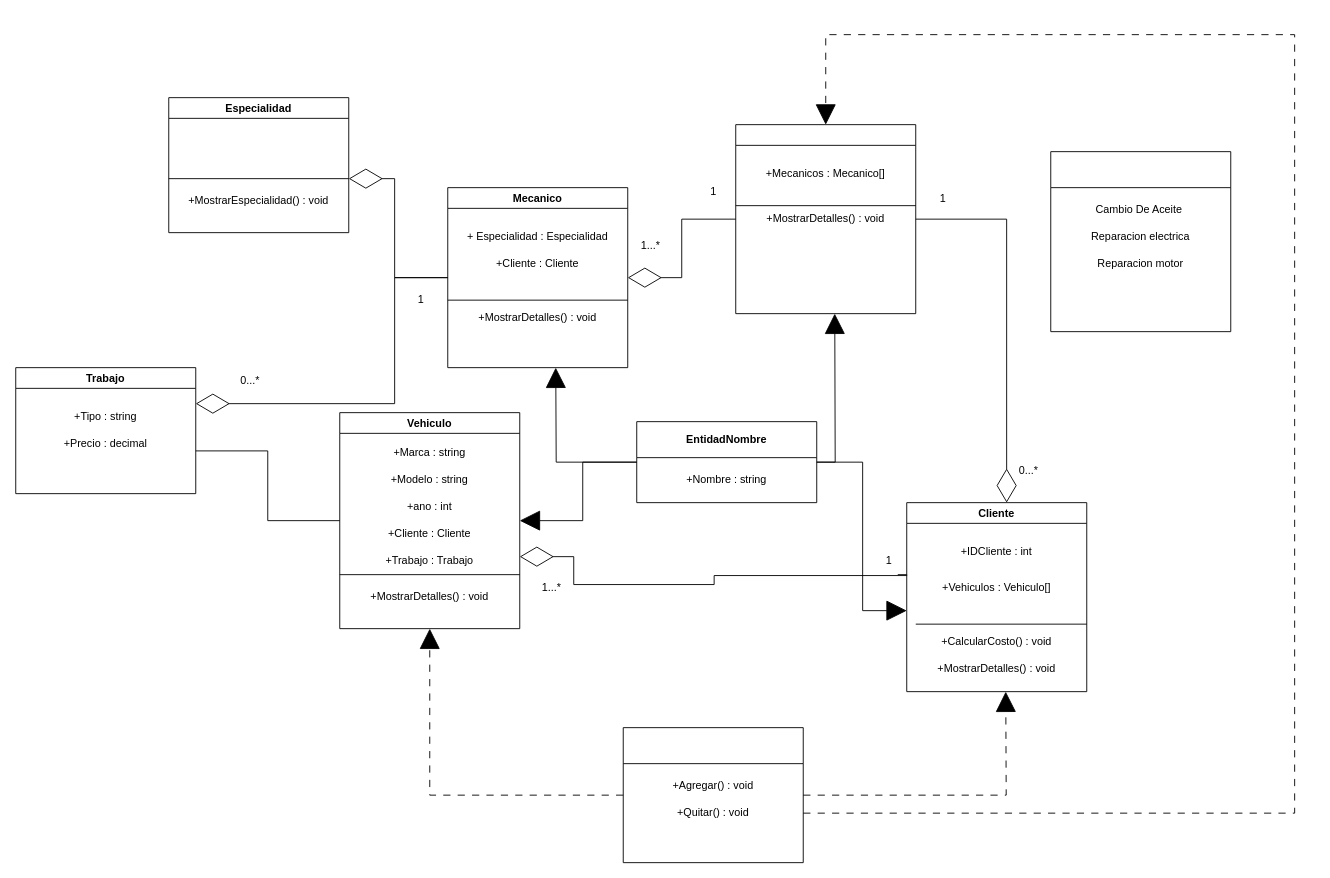
This 1330x878 diagram has some shape labels left out. The shapes that lost their labels are listed below. From the top down, each one's box as (x1, y1, x2, y2) in pixels, then its label:
(735, 124, 916, 314): Taller
(1050, 151, 1231, 332): <<Enum>> Tarificación
(622, 727, 803, 863): <<interfaz>>
